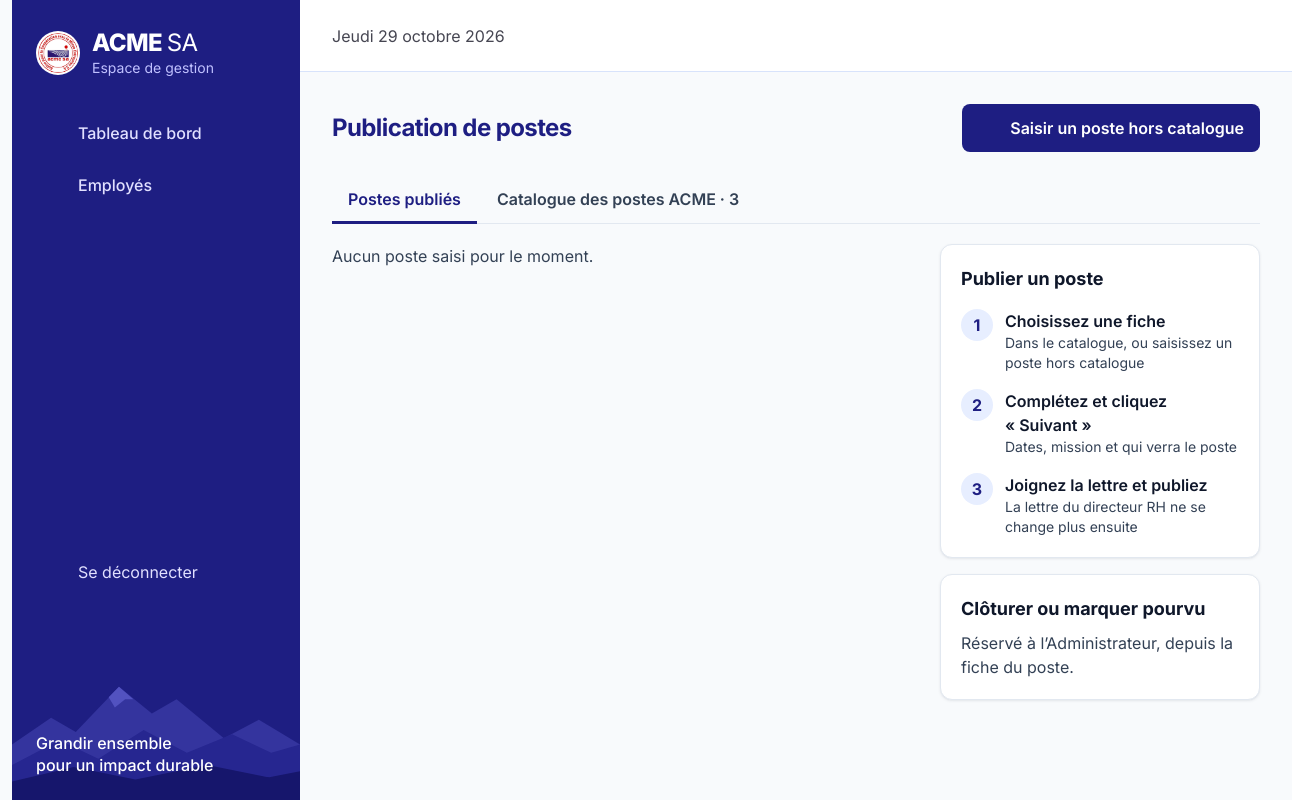
Test: US-119 CA-01 — deux onglets et le catalogue › « Postes publiés » reste l’onglet par défaut ; « Catalogue des postes ACME » liste toutes les fiches
This screenshot has width=1292, height=800.
Expected: the tab "Postes publiés" is shown, [332,176,477,224]
Click the tab "Catalogue des postes ACME · 3".
click(618, 200)  # box [481,176,755,224]
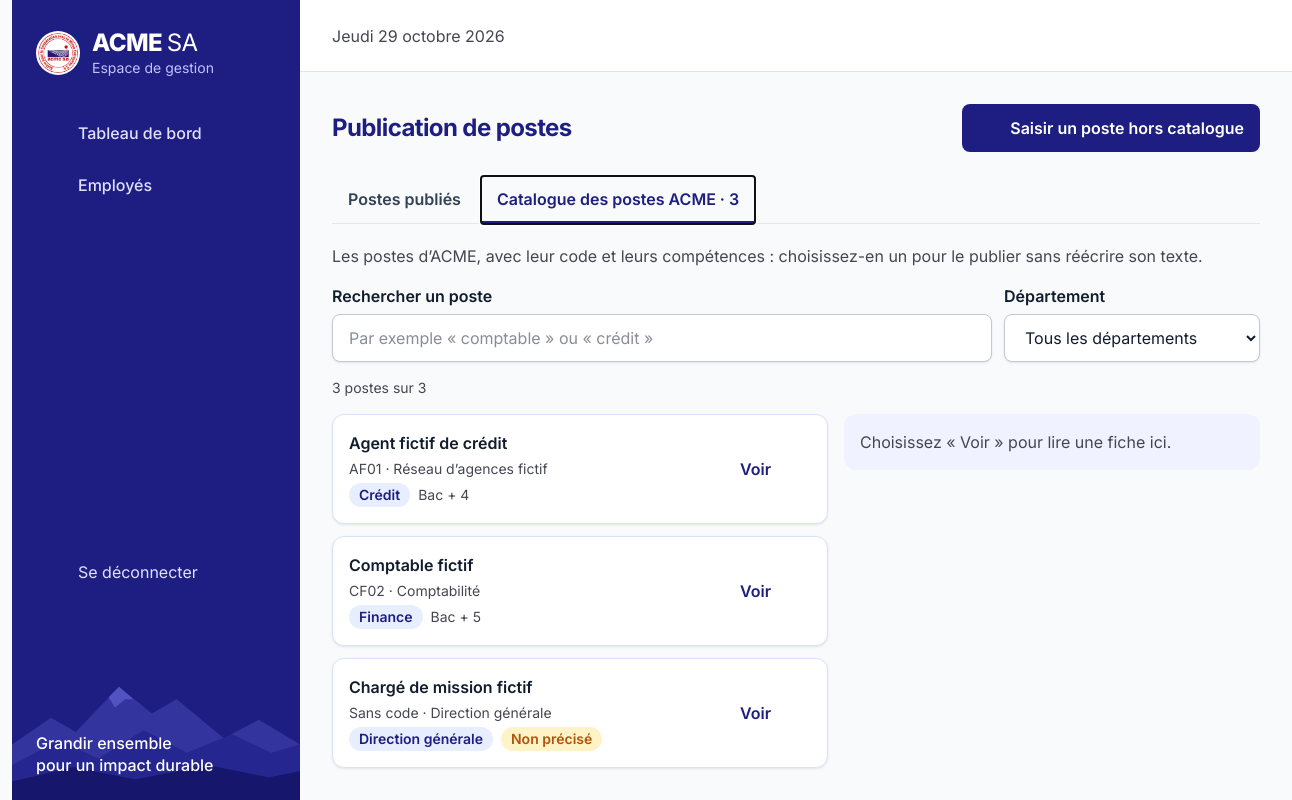
Result: the text "Agent fictif de crédit" is shown at [349,433,507,453]
Result: the text "Crédit" is shown at [349,483,410,507]
Result: the text "Bac + 4" is shown at [418,485,469,505]
